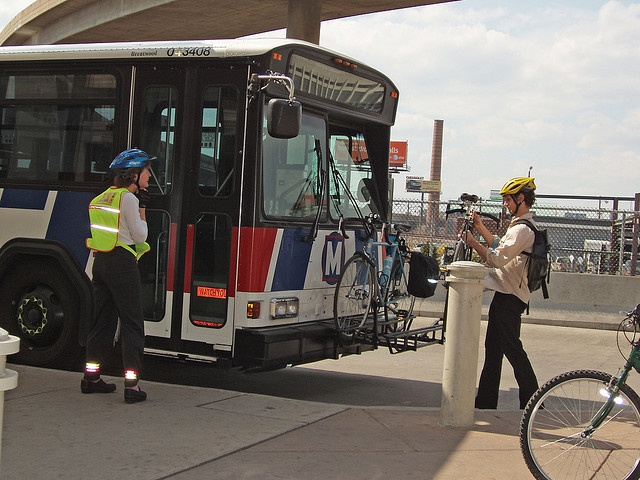non-vehicle: (516, 303, 639, 480), (331, 213, 416, 340), (442, 195, 500, 261)
